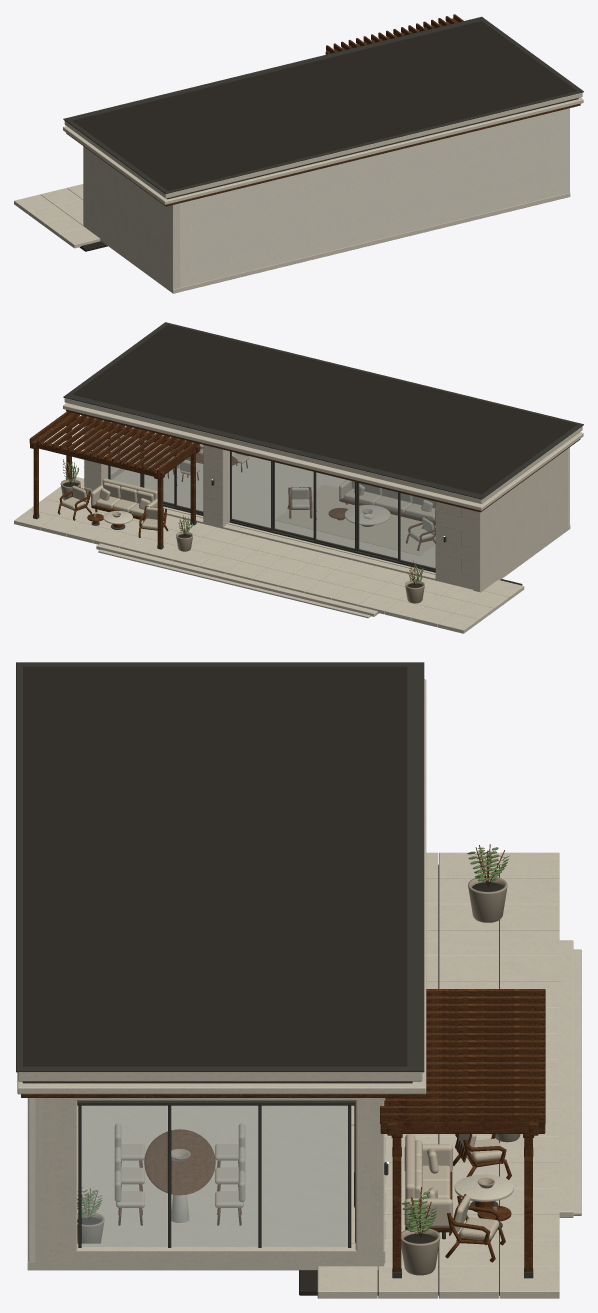
Rendered from pavilion-packed.glb.
3 views of the same model, one above another, from view 1: azimuth 30°, elevation 25°; view 2: azimuth 150°, elevation 25°; view 3: azimuth 270°, elevation 25° (orthographic). The views are drawn at different scales.
Visible parts, largest first — view 1: pavilion_static_lightmapped; view 2: pavilion_static_lightmapped, glazing_front_4_-7.49, glazing_front_2_-7.49, glazing_front_1_-7.49, glazing_front_3_-7.49, glazing_front_0_-7.49, glazing_front_0_3.045, glazing_front_1_3.045, glazing_front_2_3.045; view 3: pavilion_static_lightmapped, glazing_side, glazing_side.001, glazing_side.002.
Boxes of the visible parts, x1,y1,x2,y2 form: pavilion_static_lightmapped: (14, 14, 583, 293); pavilion_static_lightmapped: (14, 322, 583, 633); glazing_front_4_-7.49: (232, 452, 270, 527); glazing_front_2_-7.49: (316, 472, 354, 548); glazing_front_1_-7.49: (359, 483, 397, 558); glazing_front_3_-7.49: (275, 462, 313, 537); glazing_front_0_-7.49: (400, 493, 435, 567); glazing_front_0_3.045: (177, 439, 202, 511); glazing_front_1_3.045: (144, 431, 173, 503); glazing_front_2_3.045: (110, 422, 139, 486); pavilion_static_lightmapped: (16, 662, 581, 1298); glazing_side: (262, 1106, 347, 1246); glazing_side.001: (172, 1106, 257, 1246); glazing_side.002: (82, 1106, 167, 1246).
Bounding box in the file's own units: 20.38 × 4.72 × 11.1.
Materials: 11 (4 with a texture image).
